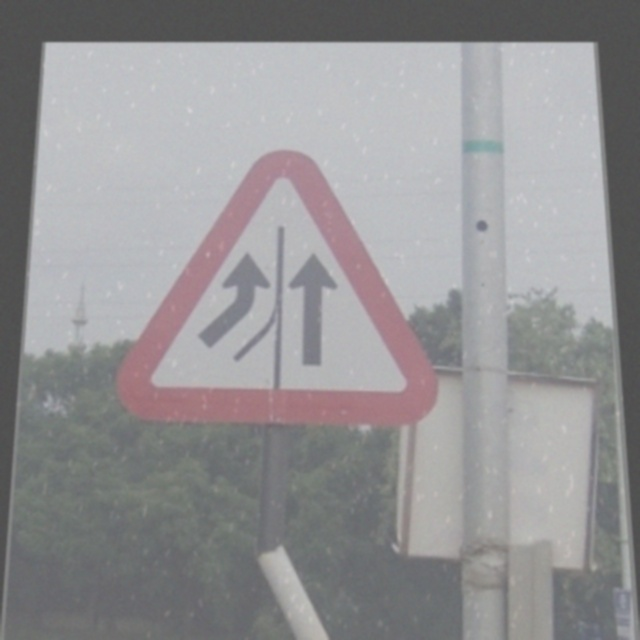Merge_Traffic_Ahead: (109, 145, 449, 442)
